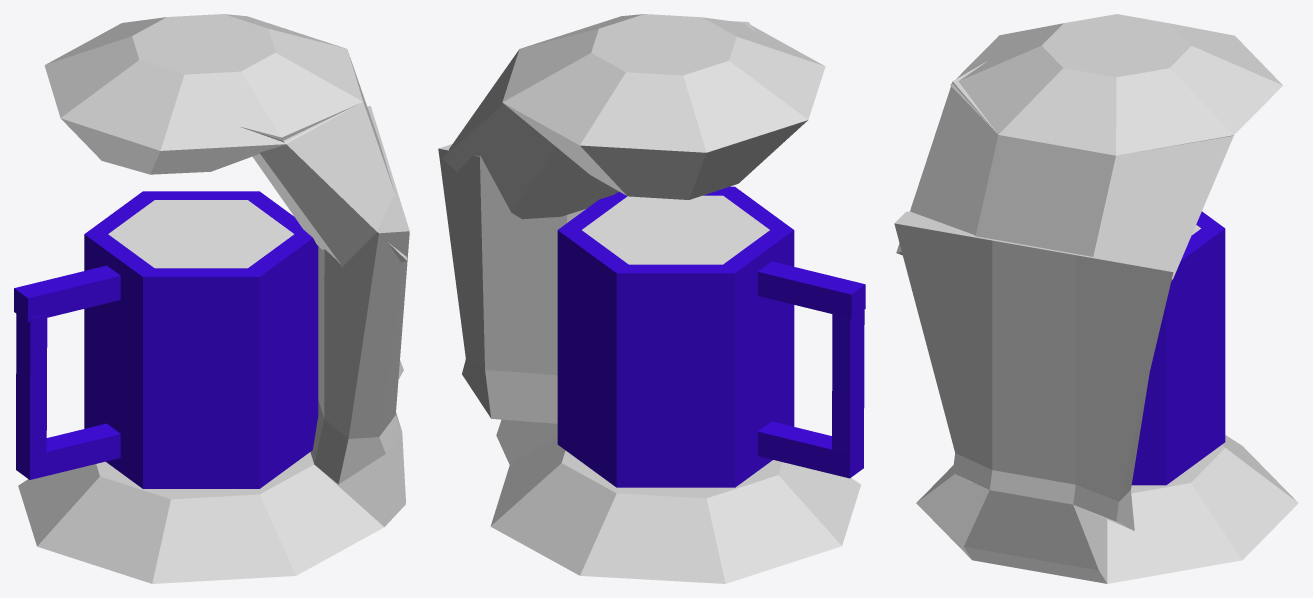
The model's file is Coffee.fbx.
The picture shows the model from 3 angles, left to right: view 1: azimuth 30°, elevation 25°; view 2: azimuth 150°, elevation 25°; view 3: azimuth 270°, elevation 25°; orthographic projection.
Parts seen in each view (by area): view 1: Cylinder.001, Cylinder; view 2: Cylinder.001, Cylinder; view 3: Cylinder.001, Cylinder.
Part boxes in pixels (x1,y1,x2,y2): Cylinder.001: [18, 14, 409, 583]; Cylinder: [14, 191, 318, 488]; Cylinder.001: [438, 14, 860, 583]; Cylinder: [557, 186, 865, 487]; Cylinder.001: [894, 14, 1298, 583]; Cylinder: [1131, 211, 1225, 485].
Size of the model in its own units: 383 by 431 by 343.
